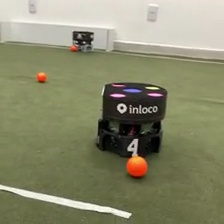ball: (125, 154, 149, 179), (36, 71, 47, 83), (70, 44, 77, 51)
goal: (1, 19, 116, 53)
robot: (94, 80, 170, 159), (71, 30, 95, 53)
